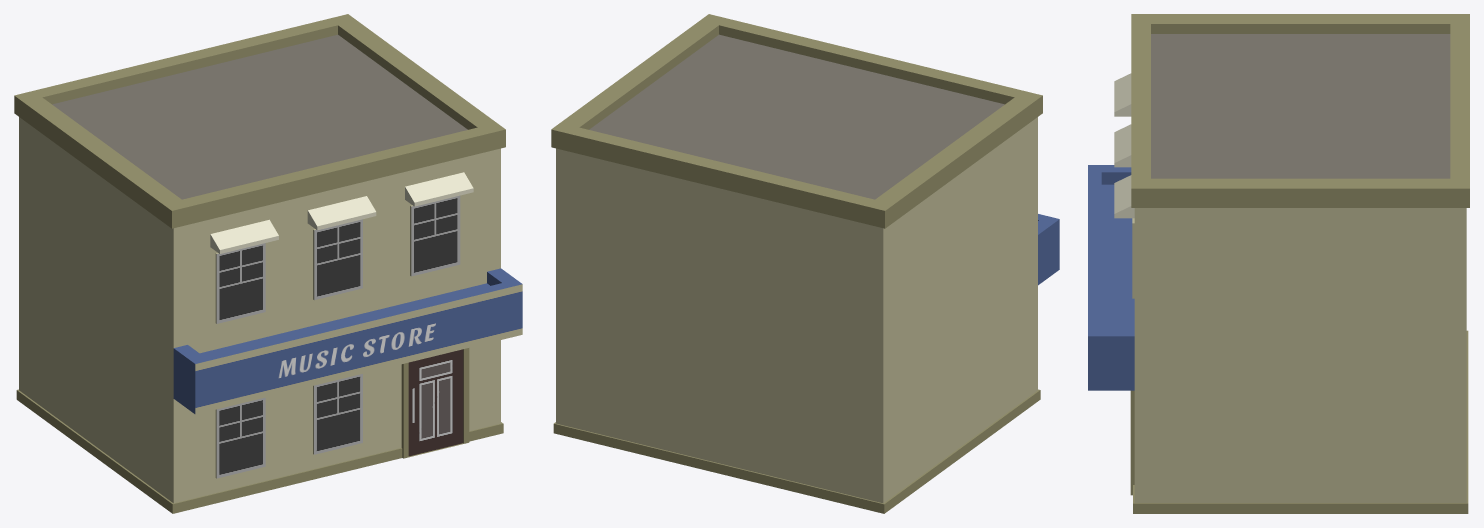
File: building-music-store.glb
3 views of the same model, side by side, from view 1: azimuth 30°, elevation 25°; view 2: azimuth 150°, elevation 25°; view 3: azimuth 270°, elevation 25° (orthographic). The views are drawn at different scales.
Visible parts, largest first — view 1: model; view 2: model; view 3: model.
Part boxes in pixels (bbox=[...]): model: bbox=[14, 14, 522, 513]; model: bbox=[551, 14, 1059, 513]; model: bbox=[1088, 14, 1469, 513].
Size of the model in its own units: 11.22 by 9.76 by 10.35.
1 material, 1 textured.
